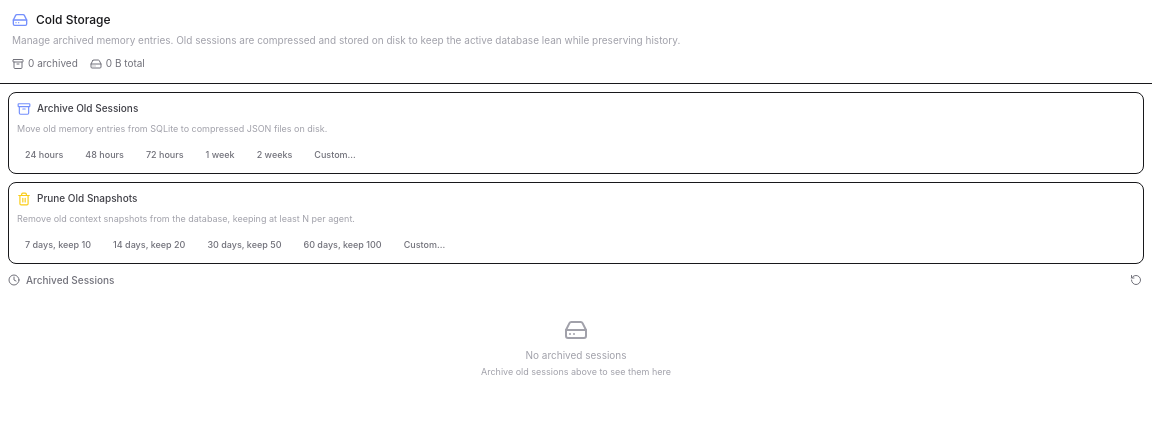
Test: ColdStoragePanel › custom archive input › shows custom input when Custom... is clicked
Click the 1st button "Custom..." at x=335, y=155, box [306,144,364,165]
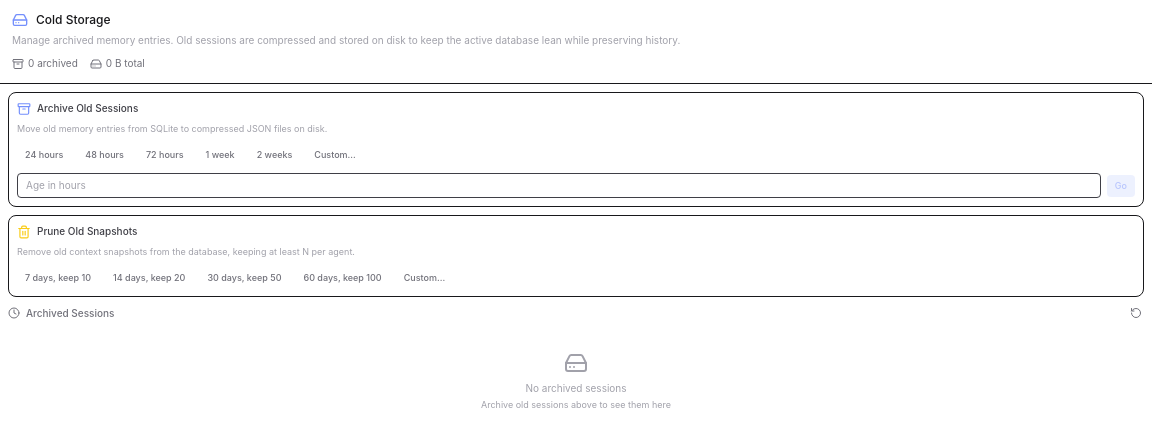
Expected: the number field with placeholder "Age in hours" is shown, [17,173,1101,198]
